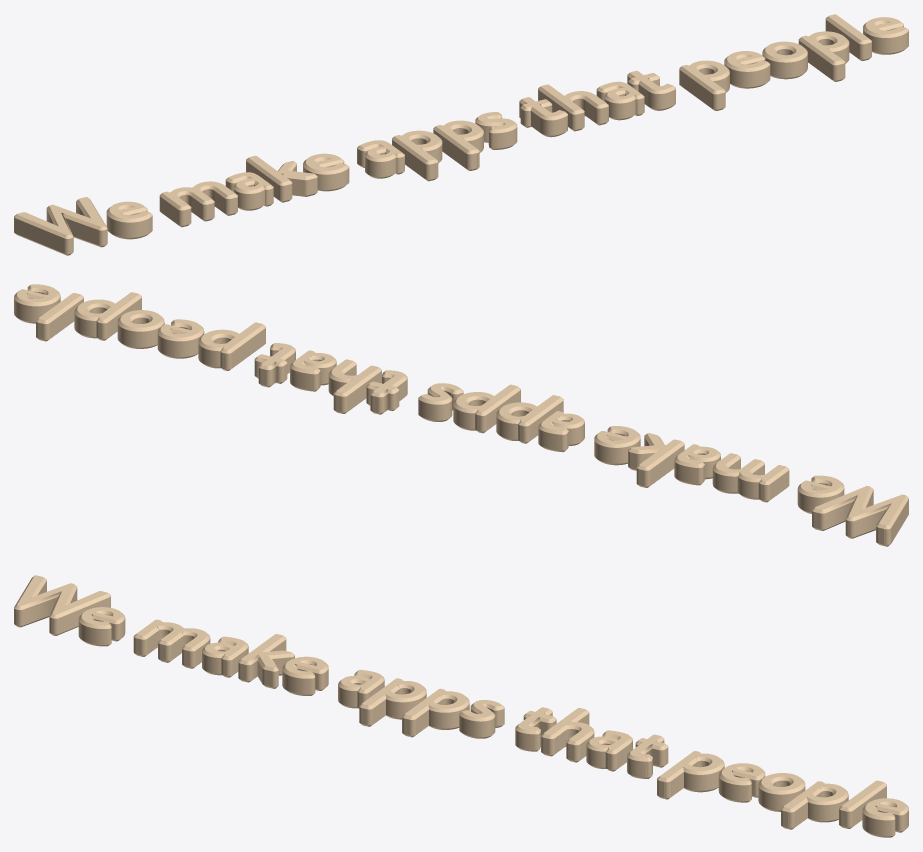
File: we-make-app.obj
The picture shows the model from 3 angles, top to bottom: view 1: azimuth 30°, elevation 25°; view 2: azimuth 150°, elevation 25°; view 3: azimuth 330°, elevation 25°; orthographic projection. The views are drawn at different scales.
Parts seen in each view (by area): view 1: Curve.018; view 2: Curve.018; view 3: Curve.018.
Part boxes in pixels (box(x1,y1,x2,y2)): Curve.018: box(14, 14, 908, 255); Curve.018: box(14, 284, 908, 546); Curve.018: box(14, 575, 908, 837).
Bounding box in the file's own units: 0.443 × 0.01 × 0.0462.
